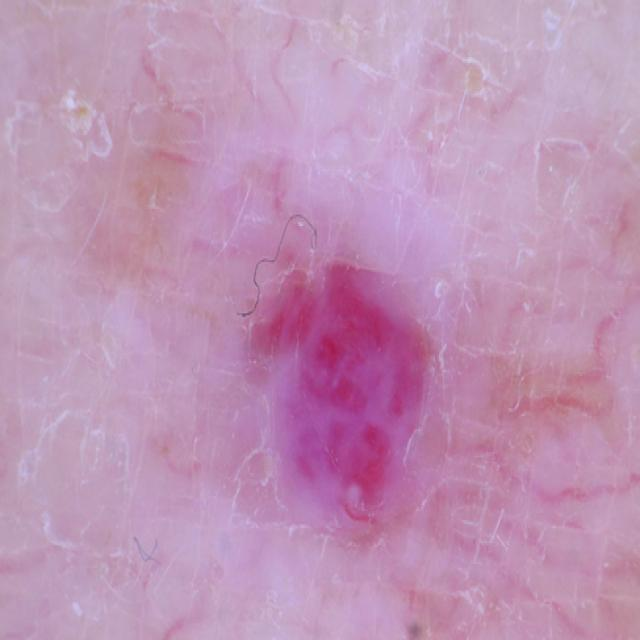Vascular Lesions: (234, 220, 467, 575)
